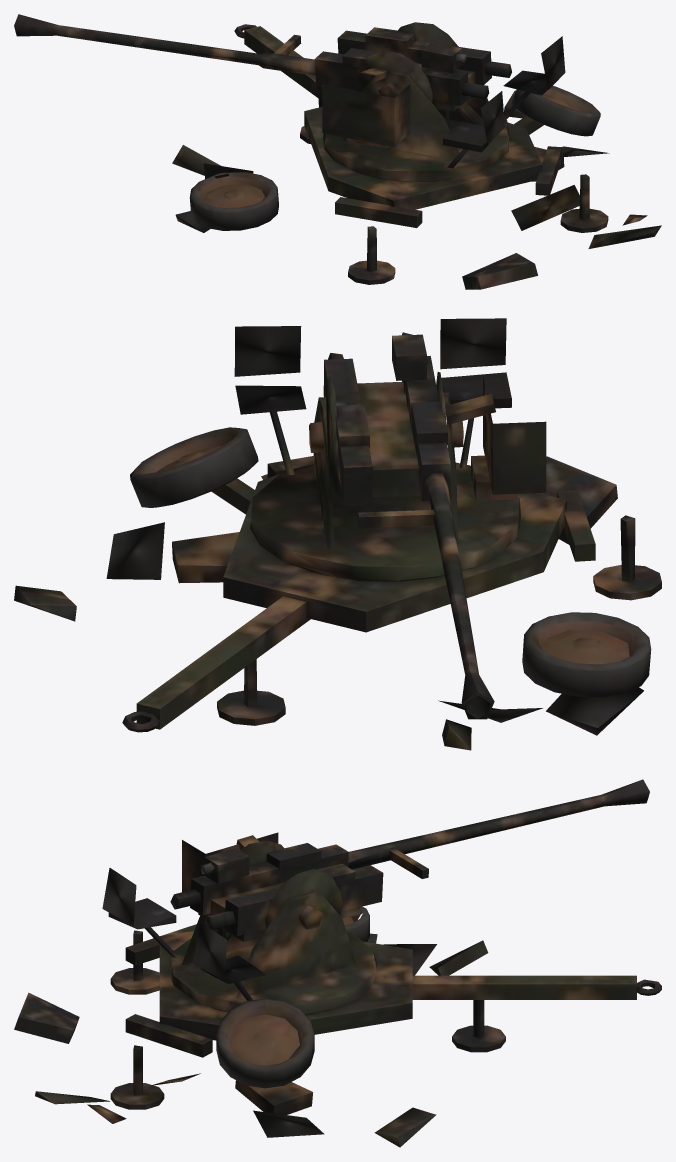
File: aaa_gun_destroyed_lod1.glb
3 views of the same model, one above another, from view 1: azimuth 30°, elevation 25°; view 2: azimuth 150°, elevation 25°; view 3: azimuth 270°, elevation 25° (orthographic). The views are drawn at different scales.
Visible parts, largest first — view 1: carriage, turret, barrels, debris; view 2: carriage, turret, barrels, debris; view 3: carriage, turret, barrels, debris.
Boxes of the visible parts, x1=… form: carriage: x1=189, y1=24, x2=608, y2=284; turret: x1=322, y1=36, x2=565, y2=181; barrels: x1=14, y1=14, x2=511, y2=111; debris: x1=172, y1=90, x2=661, y2=289; carriage: x1=122, y1=427, x2=661, y2=732; turret: x1=234, y1=318, x2=546, y2=580; barrels: x1=323, y1=353, x2=494, y2=719; debris: x1=14, y1=456, x2=643, y2=750; carriage: x1=110, y1=906, x2=661, y2=1109; turret: x1=102, y1=832, x2=377, y2=1014; barrels: x1=170, y1=779, x2=649, y2=941; debris: x1=14, y1=933, x2=488, y2=1147.
Size of the model in its own units: 3.55 by 1.42 by 4.1.
Materials: 1 (1 with a texture image).
